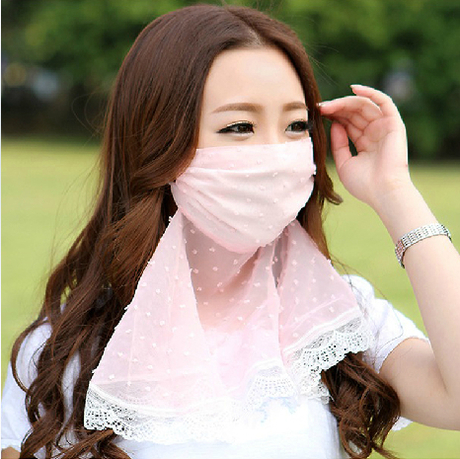face_mask: (184, 48, 314, 234)
